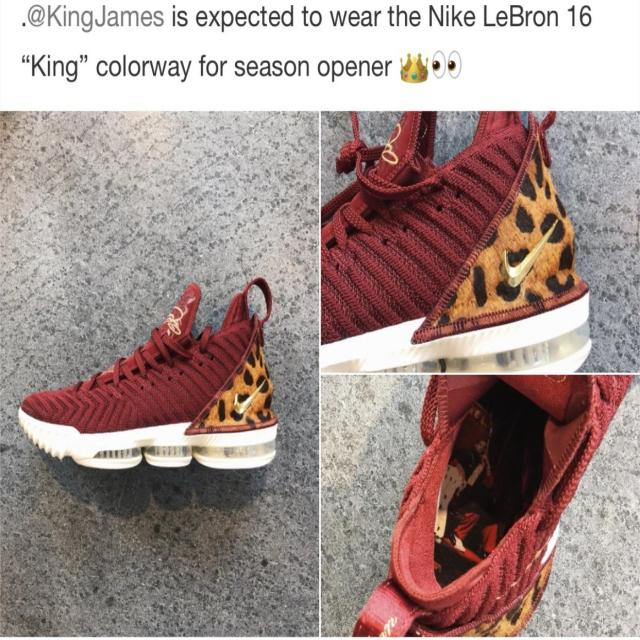shoe: (322, 114, 597, 372), (14, 280, 282, 471)
